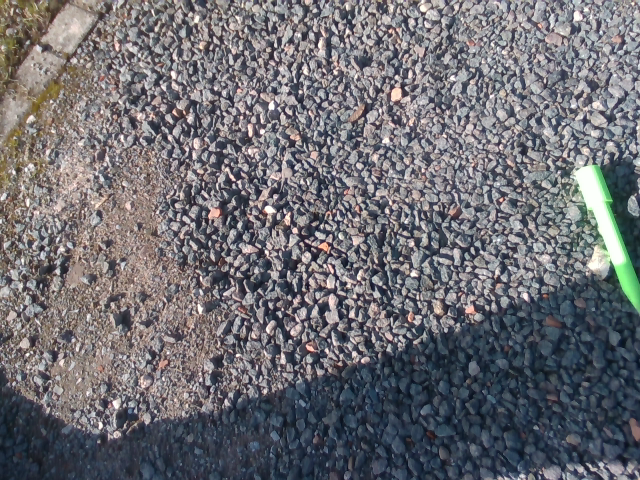Probe: (571, 160, 640, 326)
